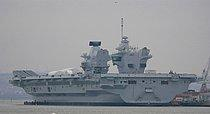MIL_Ship: (8, 29, 198, 105)
